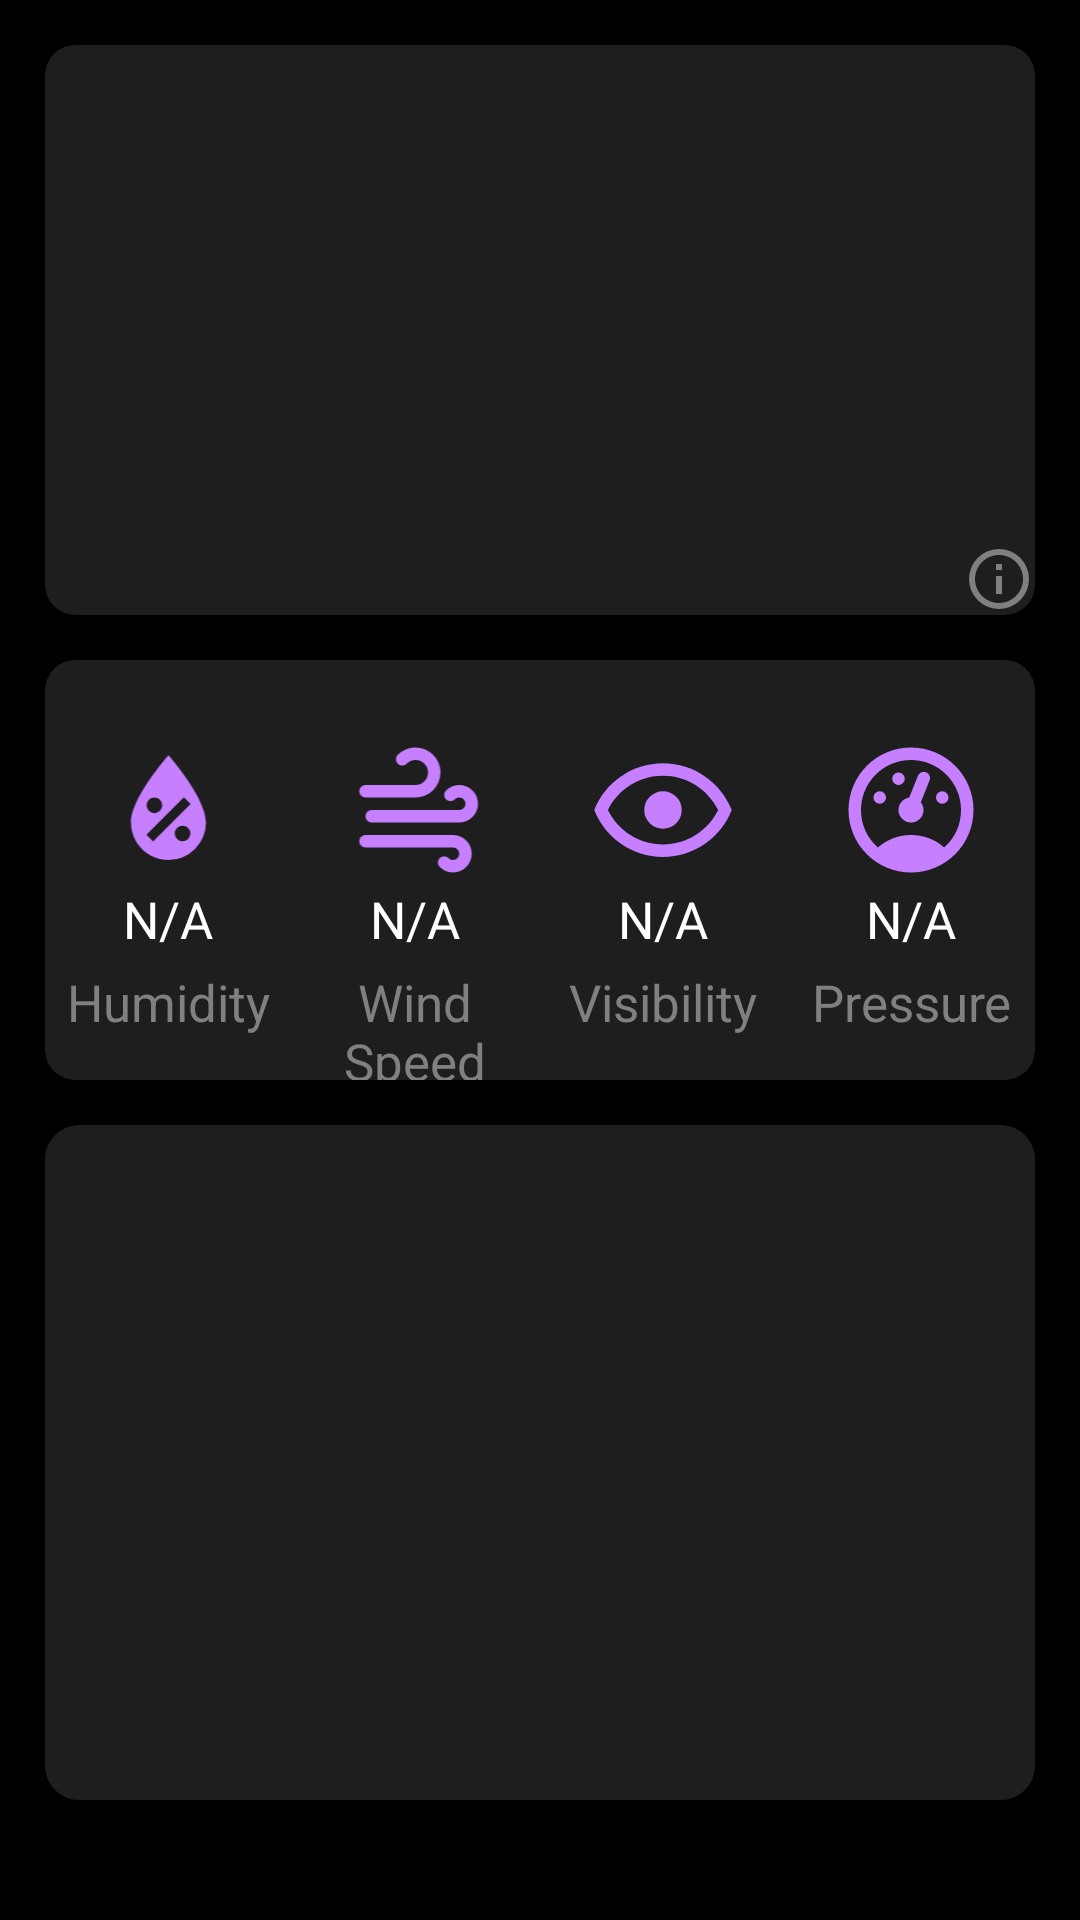

Named icons in this screenshot (1080*1920) and their centers, (x=x, y=y):
moreinfo: (x=999, y=579)
